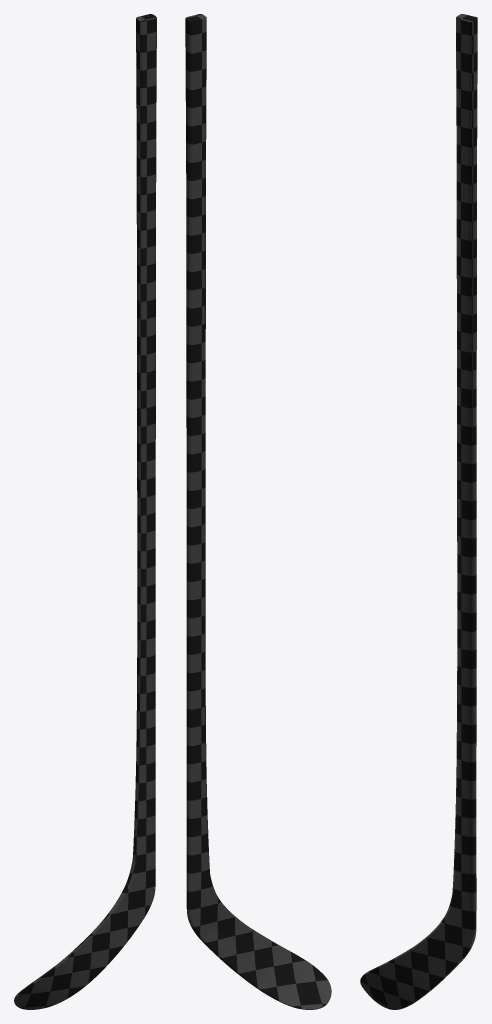
Rendered from P61-SBO.glb.
The picture shows the model from 3 angles, left to right: view 1: azimuth 30°, elevation 25°; view 2: azimuth 210°, elevation 25°; view 3: azimuth 330°, elevation 25°; orthographic projection. The views are drawn at different scales.
Visible parts, largest first — view 1: geometry_0; view 2: geometry_0; view 3: geometry_0.
Part boxes in pixels (left/top/right/bottom): geometry_0: left=14, top=14, right=156, bottom=1009; geometry_0: left=185, top=14, right=331, bottom=1009; geometry_0: left=360, top=14, right=477, bottom=1009.
Bounding box in the file's own units: 220 × 1650 × 68.24.
1 material, 1 textured.
